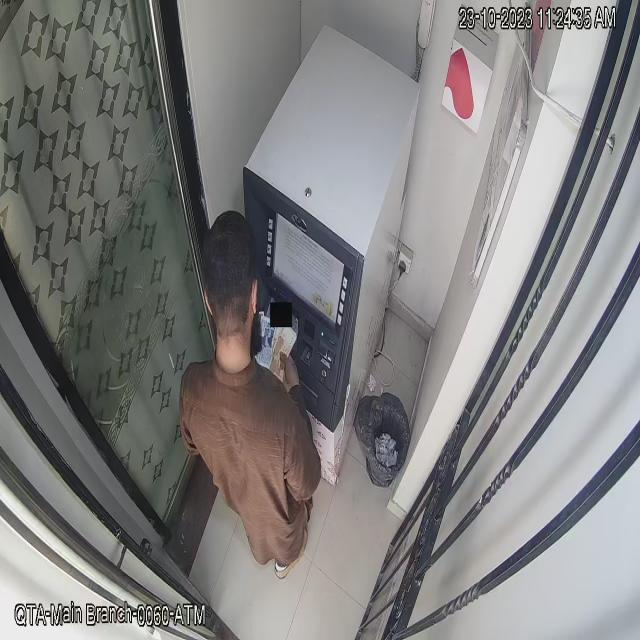note: (255, 309, 299, 385)
